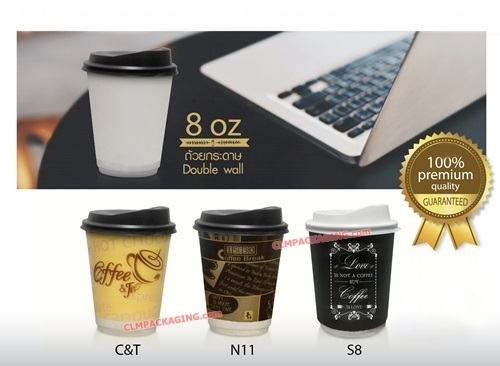PaperCup: (82, 47, 178, 180)
